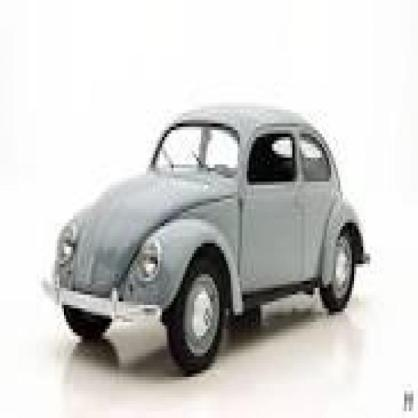car: (43, 103, 372, 379)
